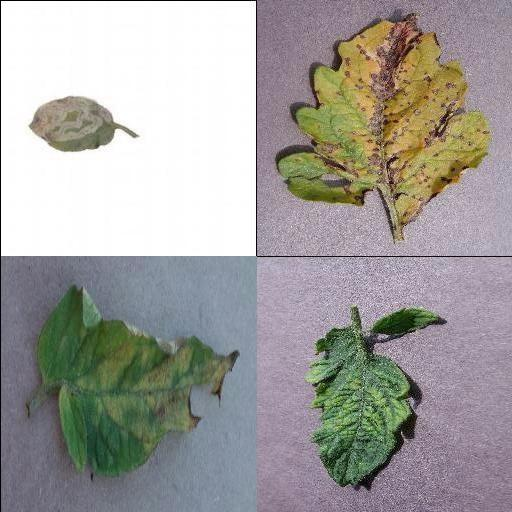Leaf Miner: (28, 93, 116, 150)
Leaf Mold: (32, 282, 240, 480)
Mosaic Virus: (303, 325, 411, 487), (374, 306, 442, 336)
Septoria: (279, 13, 490, 221)
